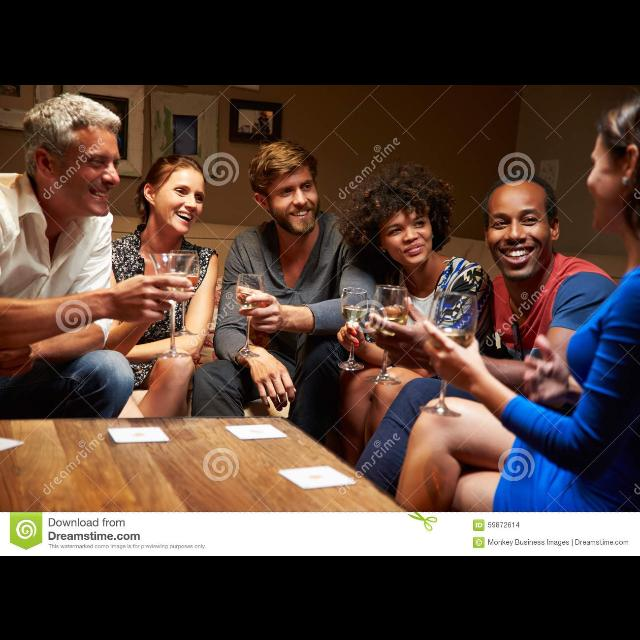head: (23, 94, 123, 218), (483, 173, 561, 281), (248, 140, 322, 236), (372, 182, 436, 266), (142, 153, 208, 234)
person: (364, 168, 628, 540), (0, 87, 196, 493), (192, 128, 372, 508), (334, 157, 498, 505), (92, 148, 225, 498)
